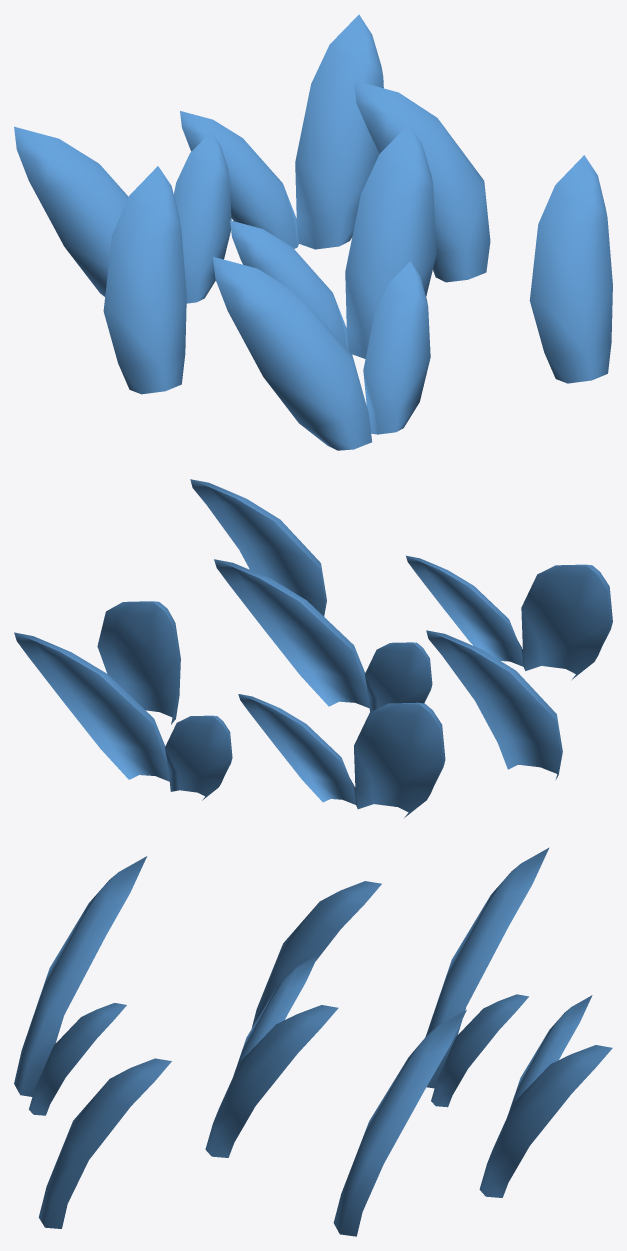
File: winter_grass_1.fbx
The picture shows the model from 3 angles, top to bottom: view 1: azimuth 30°, elevation 25°; view 2: azimuth 150°, elevation 25°; view 3: azimuth 270°, elevation 25°; orthographic projection. The views are drawn at different scales.
Parts seen in each view (by area): view 1: Plane103, Plane111, Plane105, Plane110, Plane112, Plane107, Plane100; view 2: Plane111, Plane110, Plane103, Plane105, Plane112, Plane100, Plane107; view 3: Plane103, Plane110, Plane105, Plane111, Plane100, Plane107, Plane112.
Part boxes in pixels (x1,y1,x2,y2): Plane103: (213,256,430,450); Plane111: (180,14,383,249); Plane105: (230,124,436,358); Plane110: (14,126,231,303); Plane112: (103,166,186,394); Plane107: (529,155,612,383); Plane100: (354,80,490,282); Plane111: (14,632,232,800); Plane110: (238,694,445,817); Plane103: (406,555,612,680); Plane105: (214,559,432,712); Plane112: (426,630,562,780); Plane100: (97,601,180,724); Plane107: (190,479,326,616); Plane103: (14,856,147,1115); Plane110: (425,847,549,1107); Plane105: (205,955,338,1157); Plane111: (479,995,612,1197); Plane100: (333,1010,466,1236); Plane107: (38,1058,171,1228); Plane112: (251,881,381,1028).
Size of the model in its own units: 9.69 by 3.63 by 10.66.
